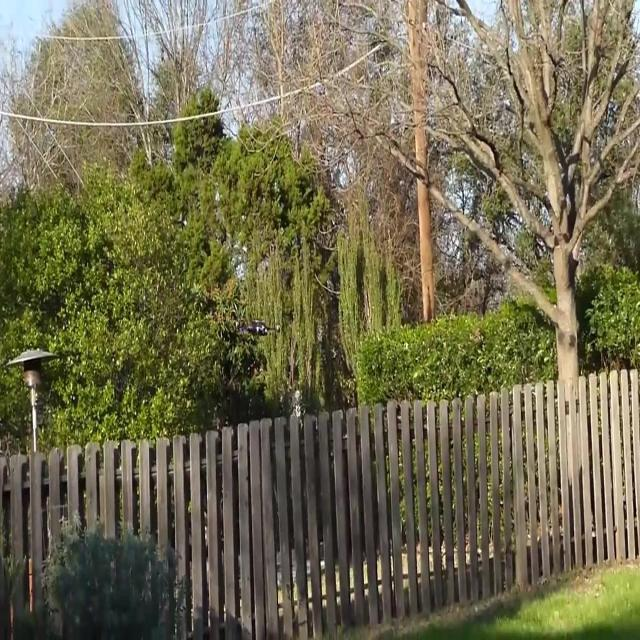UAV: (239, 319, 281, 336)
